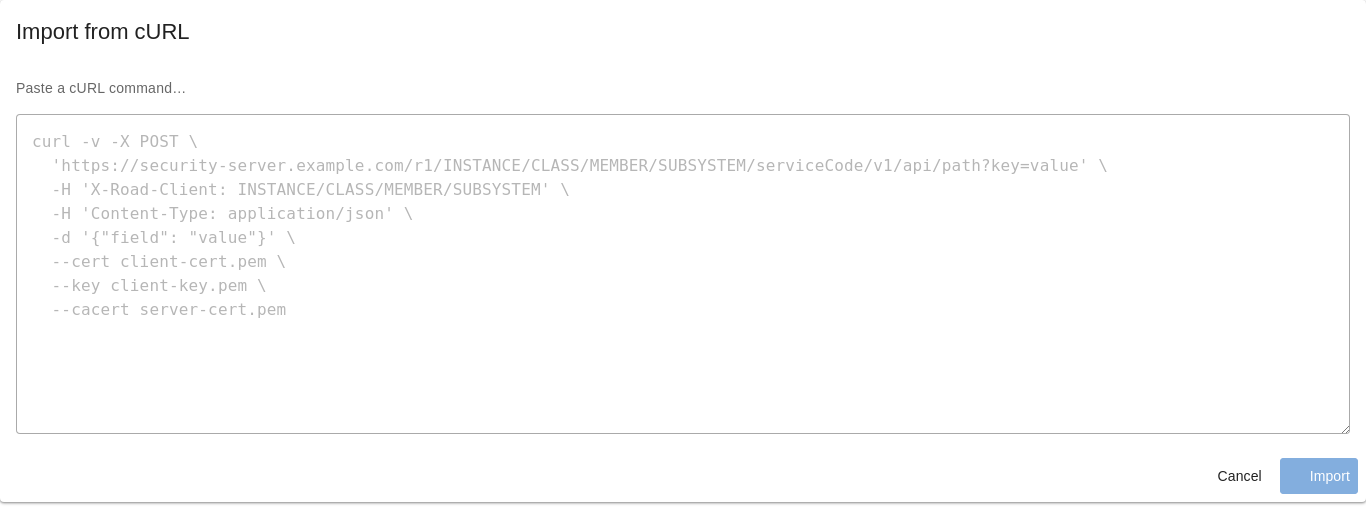
Test case: CurlImportDialog › parse + import flow › Import button enables when a valid cURL is pasted
Replace the text in the text box with "curl 'https://ss.example.com/r1/TEST/GOV/9876543-2/DataService/getInfo/api/data' -H 'X-Road-Client: TEST/GOV/1234567-8/TestClient'": [683, 274] box 16,114 -> 1350,434
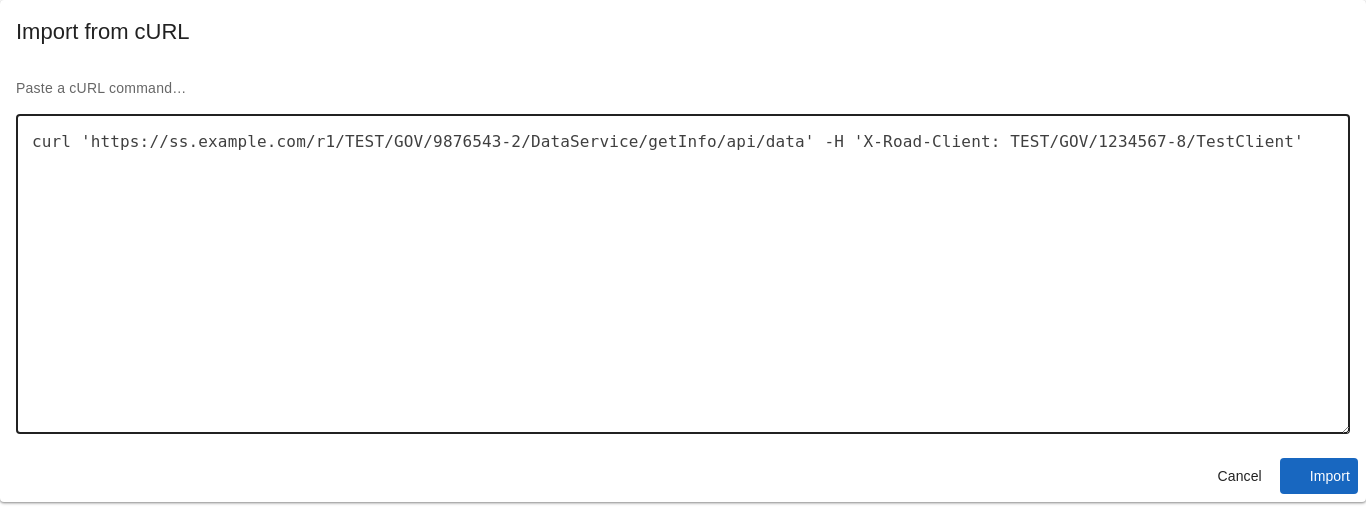
Result: the button "Import" is enabled at 1280,458 -> 1358,494
